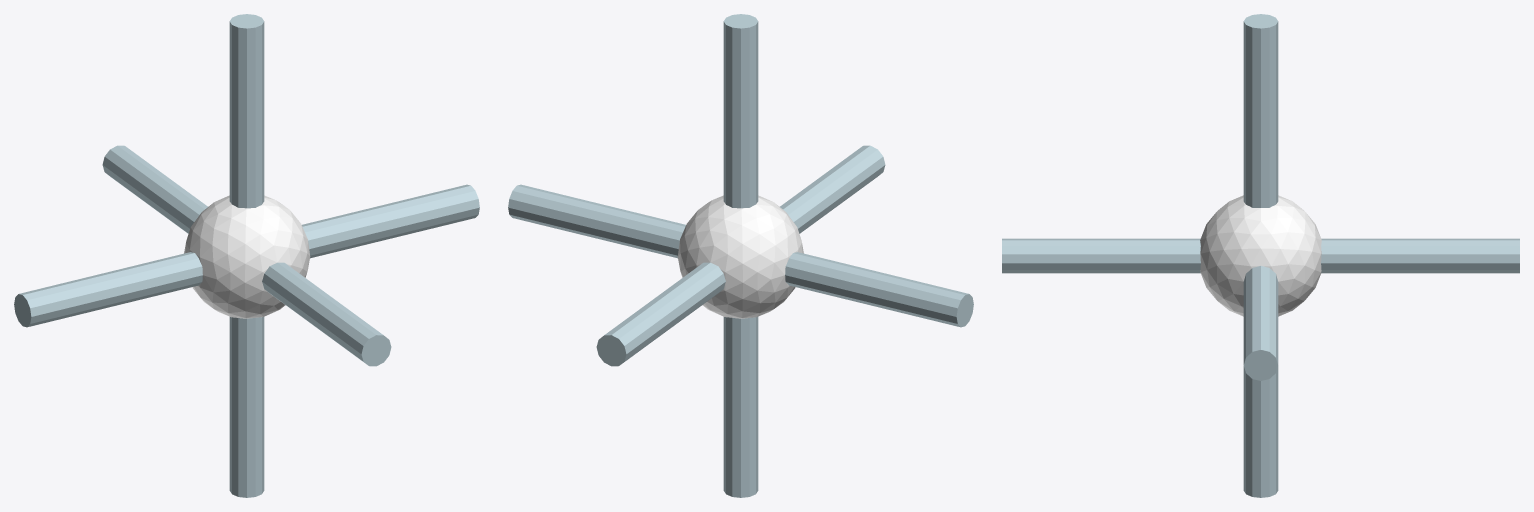
Rendered from core-rig.glb.
3 views of the same model, side by side, from view 1: azimuth 30°, elevation 25°; view 2: azimuth 150°, elevation 25°; view 3: azimuth 270°, elevation 25° (orthographic).
Visible parts, largest first — view 1: world; view 2: world; view 3: world.
Boxes of the visible parts, x1=… form: world: x1=14, y1=14, x2=479, y2=497; world: x1=508, y1=14, x2=973, y2=497; world: x1=1002, y1=14, x2=1519, y2=497.
Bounding box in the file's own units: 2 × 2 × 2.
1 material, 1 textured.
